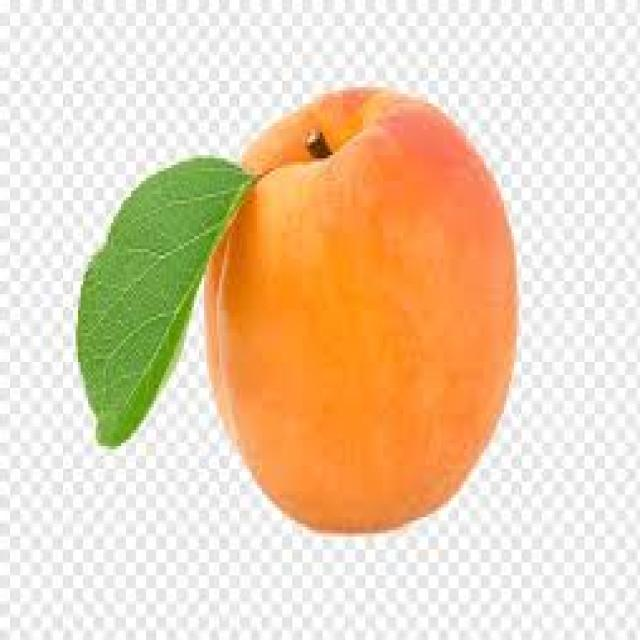kayisi: (241, 109, 528, 536)
kayisi-yapragi: (62, 148, 244, 430)
